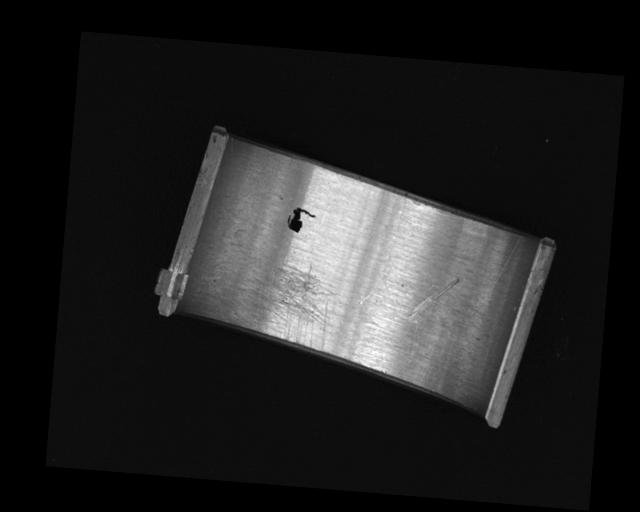blot: (286, 205, 317, 234)
nick: (356, 192, 408, 309), (474, 229, 523, 317), (408, 273, 460, 321), (402, 306, 420, 368)
scratch: (214, 257, 341, 350)
